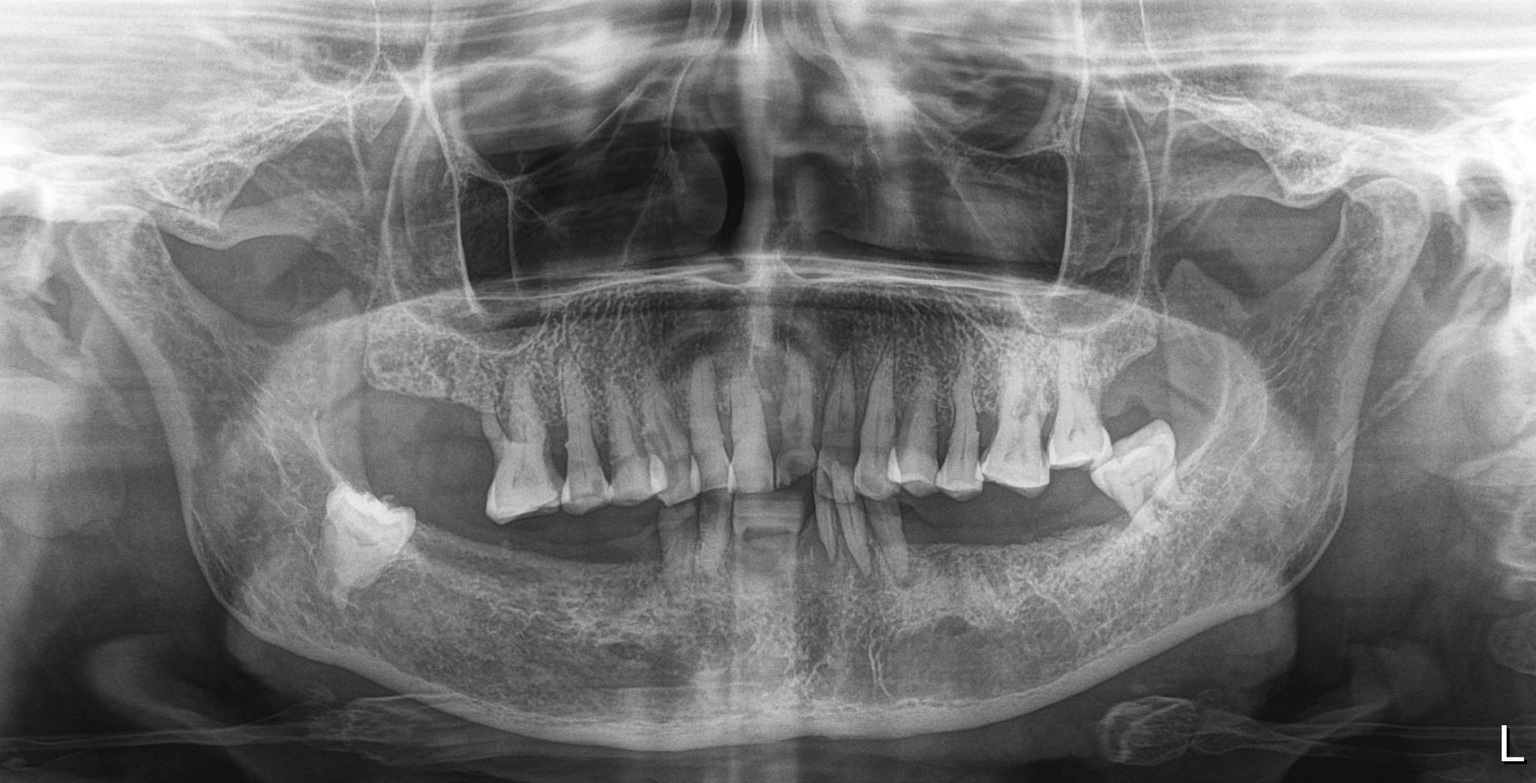Impacted Third Molar: (321, 480, 416, 603), (1099, 437, 1190, 534)
Missing Tooth: (424, 523, 494, 678), (720, 536, 785, 679), (426, 339, 488, 481), (502, 536, 563, 670), (649, 533, 707, 670), (909, 510, 964, 649), (574, 529, 629, 666), (1046, 501, 1097, 648), (364, 334, 419, 466), (975, 508, 1027, 646), (1149, 330, 1207, 432), (1106, 336, 1142, 429)
